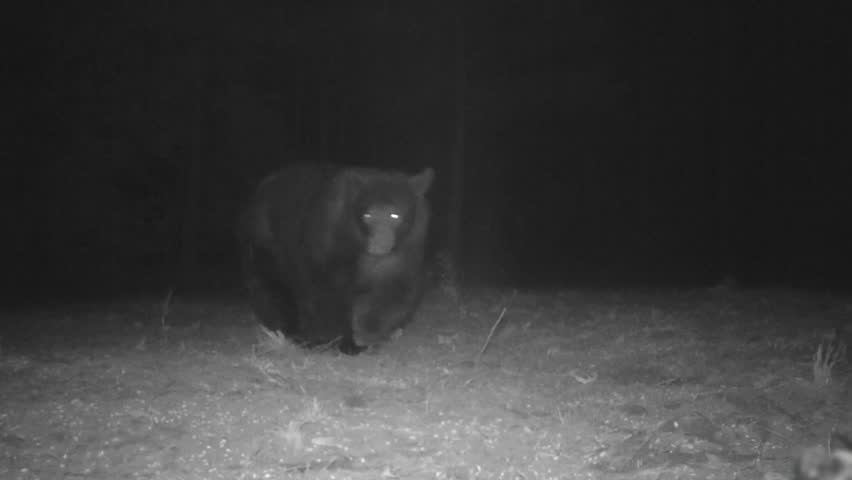bear: (210, 152, 434, 339)
